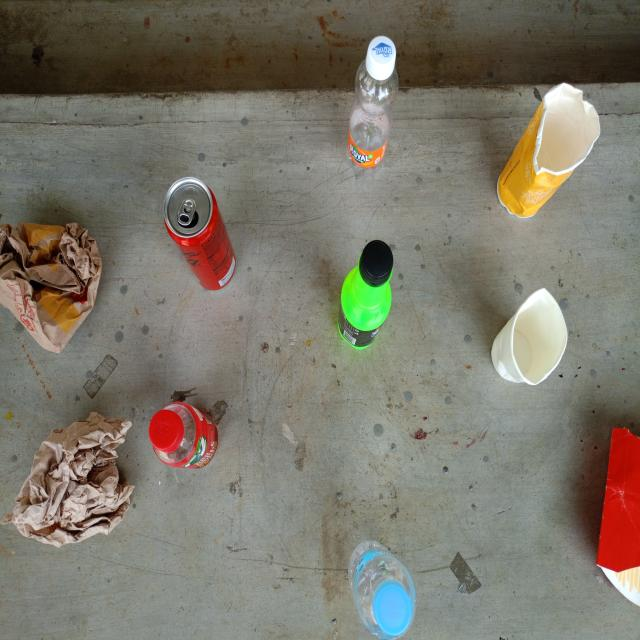Anorganik: (158, 171, 239, 295), (345, 533, 419, 640), (344, 32, 398, 175), (335, 237, 398, 355), (145, 395, 222, 474)
Organik: (10, 410, 137, 551), (494, 80, 604, 222), (0, 214, 106, 356), (486, 282, 572, 390), (593, 421, 640, 611)
